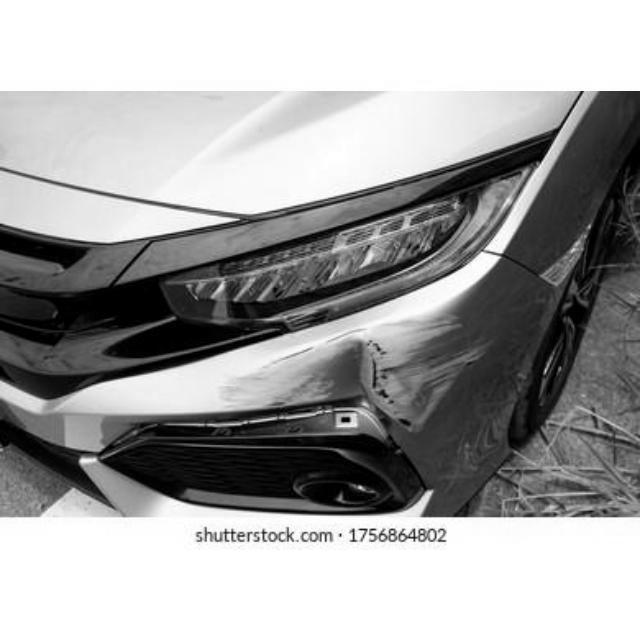front-bumper-dent: (30, 308, 530, 503)
